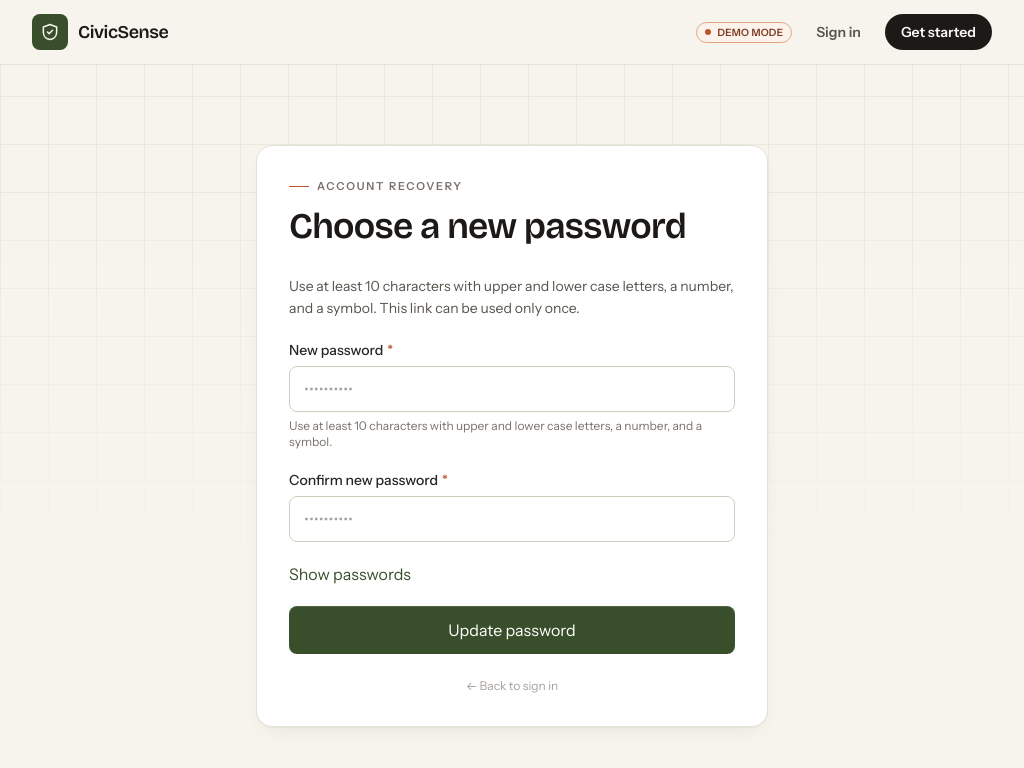
Test: Phase 10 password recovery › submits the URL token and password once for a valid reset link
Step 1. Type "Str0ng!Pass1" into the password field labelled "New password" → (512, 389), box [289,366,735,412]
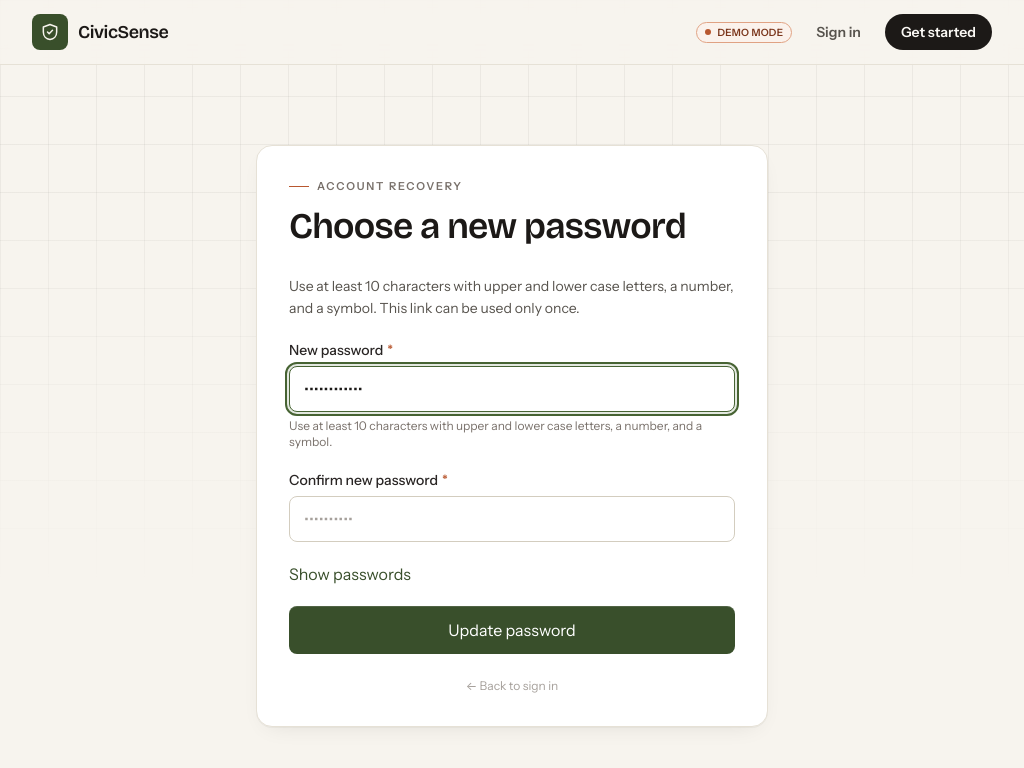
Step 2. Type "Str0ng!Pass1" into the password field labelled "Confirm new password *" → (512, 519), box [289,496,735,542]
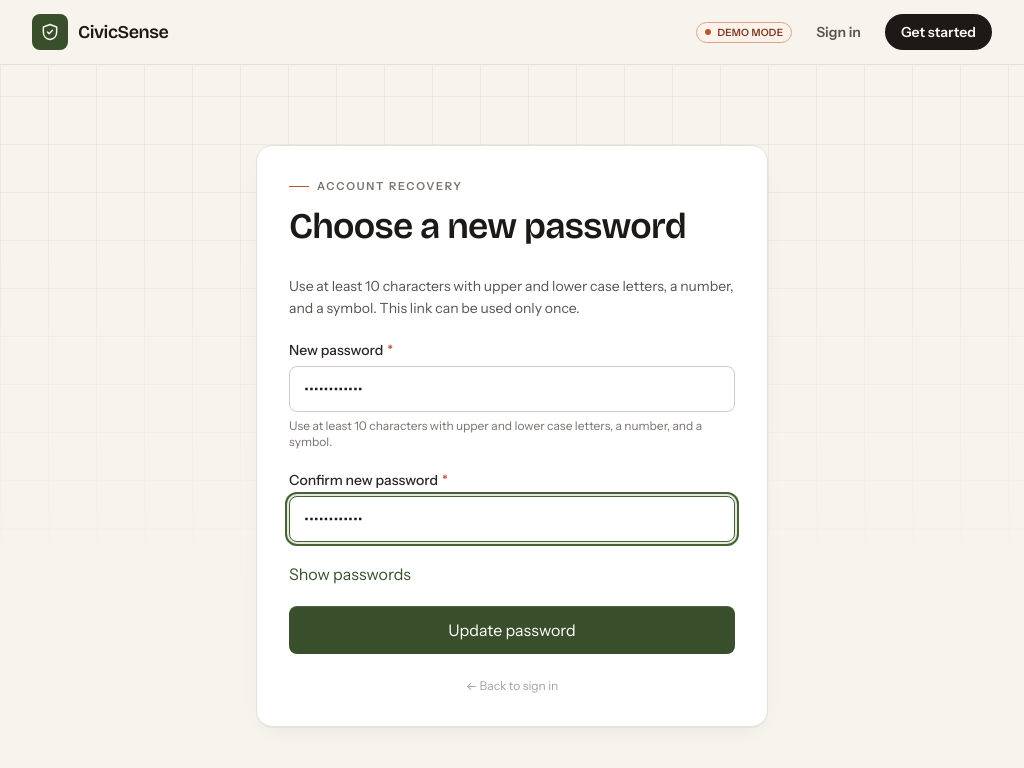
Step 3. Click the button "Update password" → (512, 630), box [289,606,735,654]
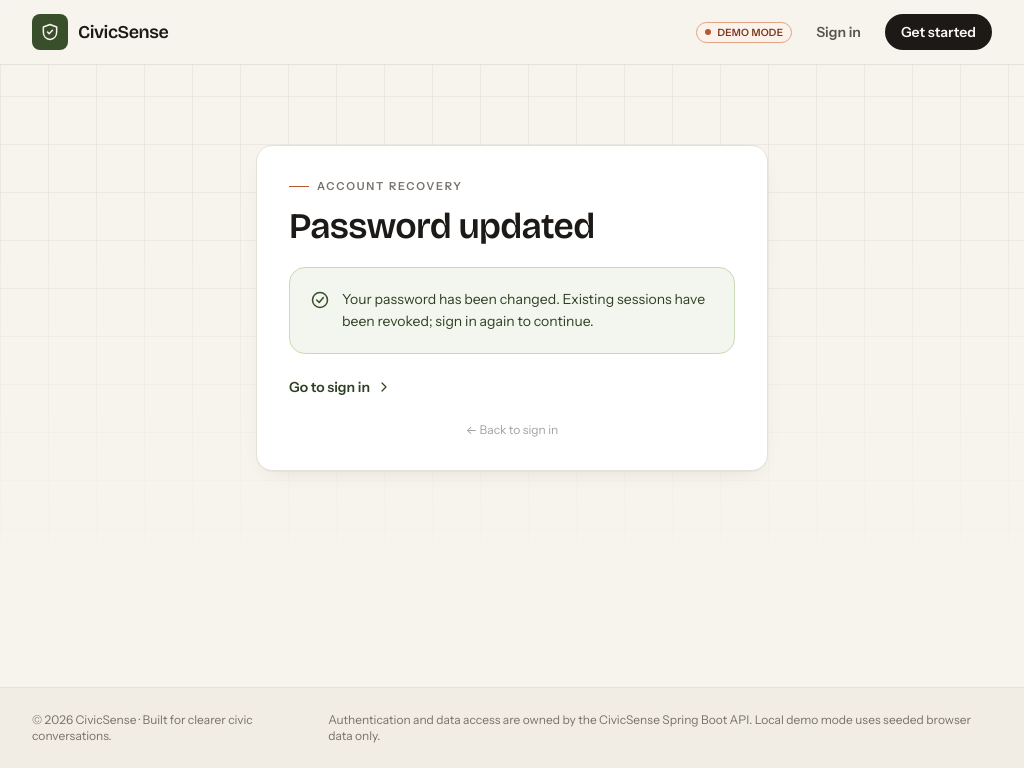
Expected: the text "password has been changed" is shown, [342,290,705,330]
